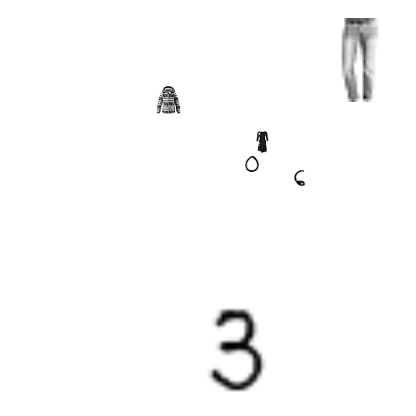0: (241, 153, 263, 175)
3: (181, 290, 293, 402)
6: (288, 168, 310, 190)
Coat: (154, 86, 182, 114)
Dress: (251, 131, 273, 153)
Trouser: (318, 18, 402, 102)
